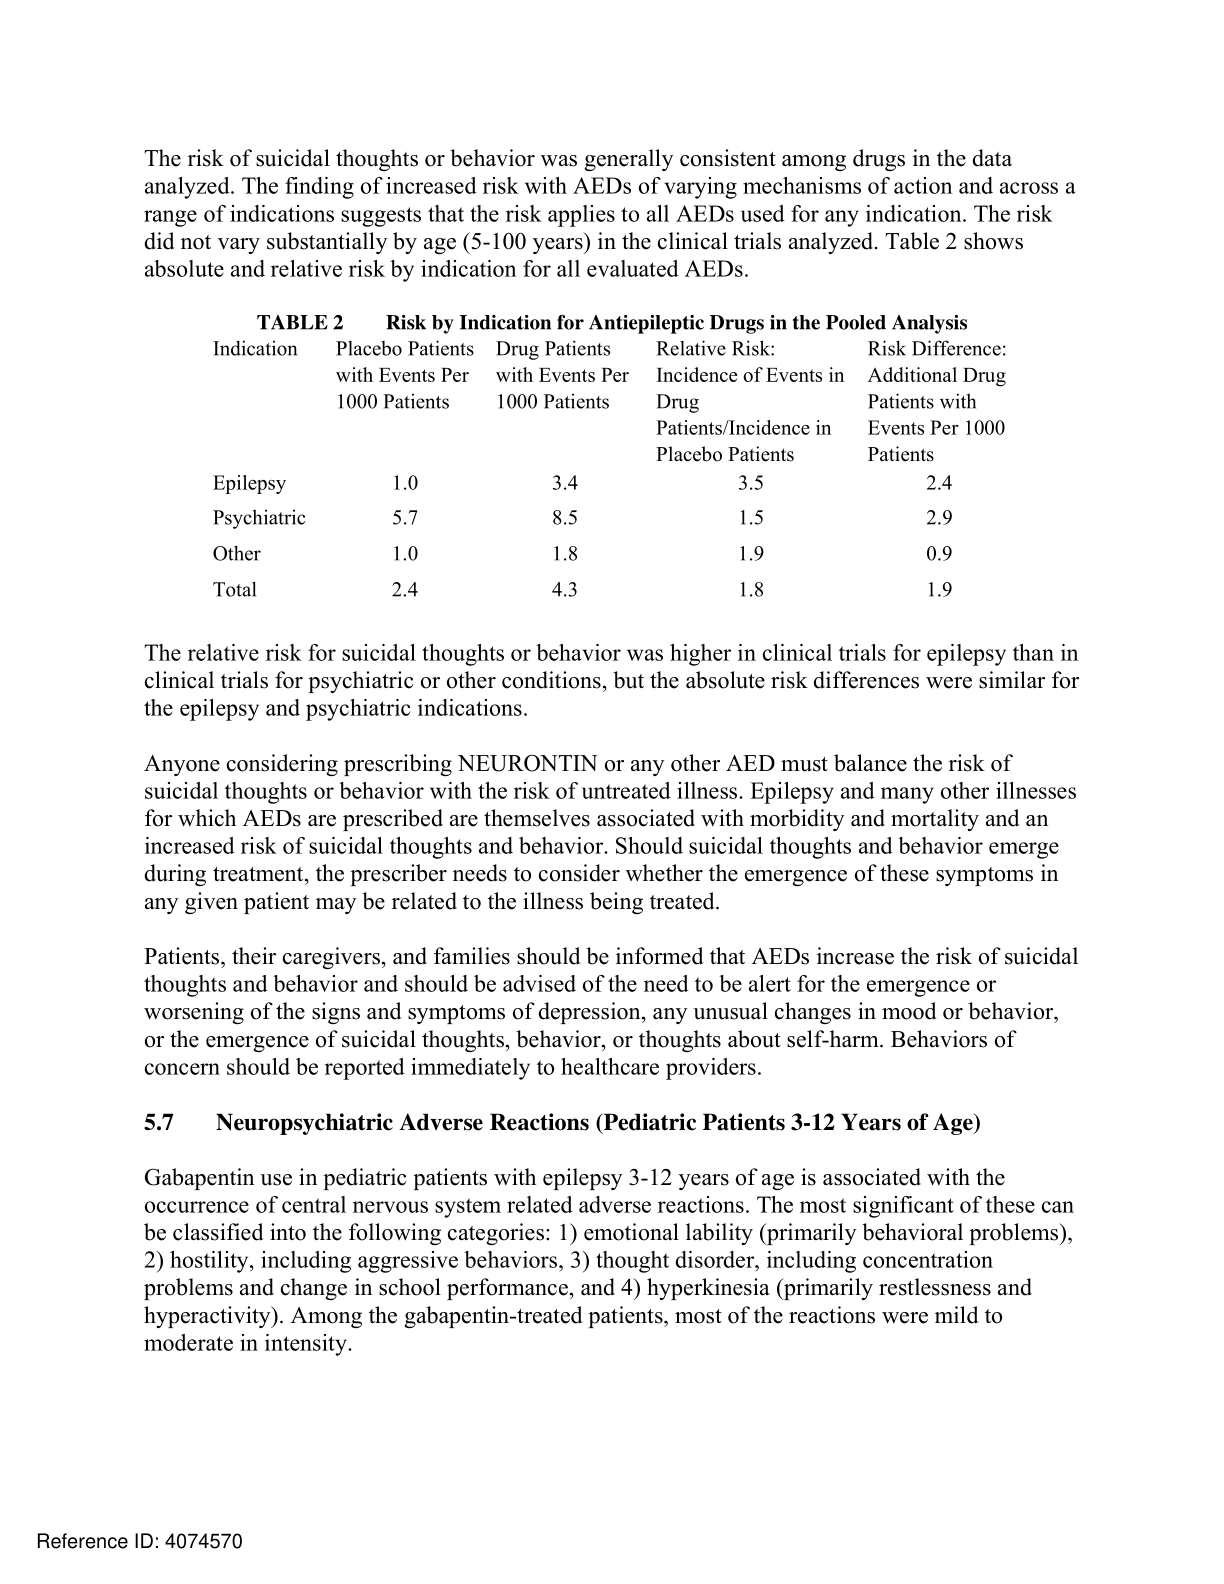nolines: (208, 336, 1013, 604)
